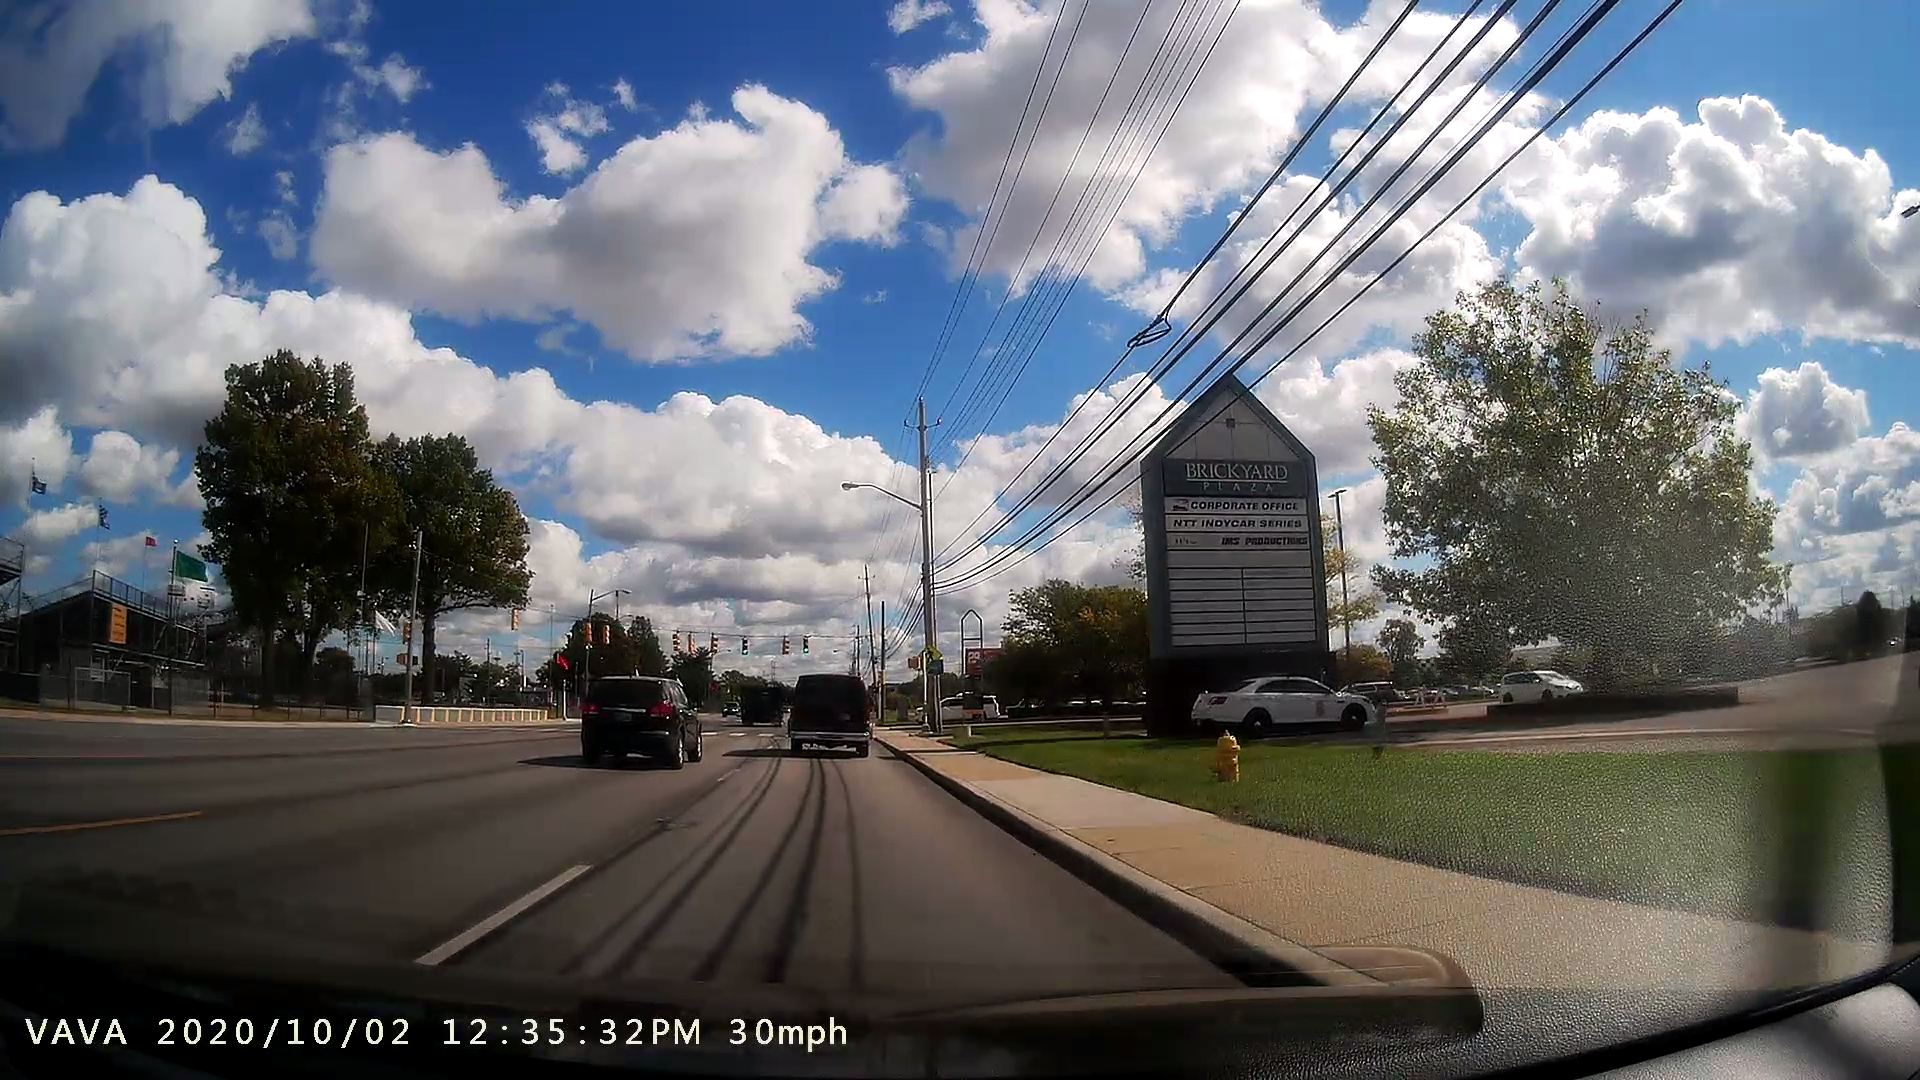fire_hydrant: (1193, 717, 1255, 782)
